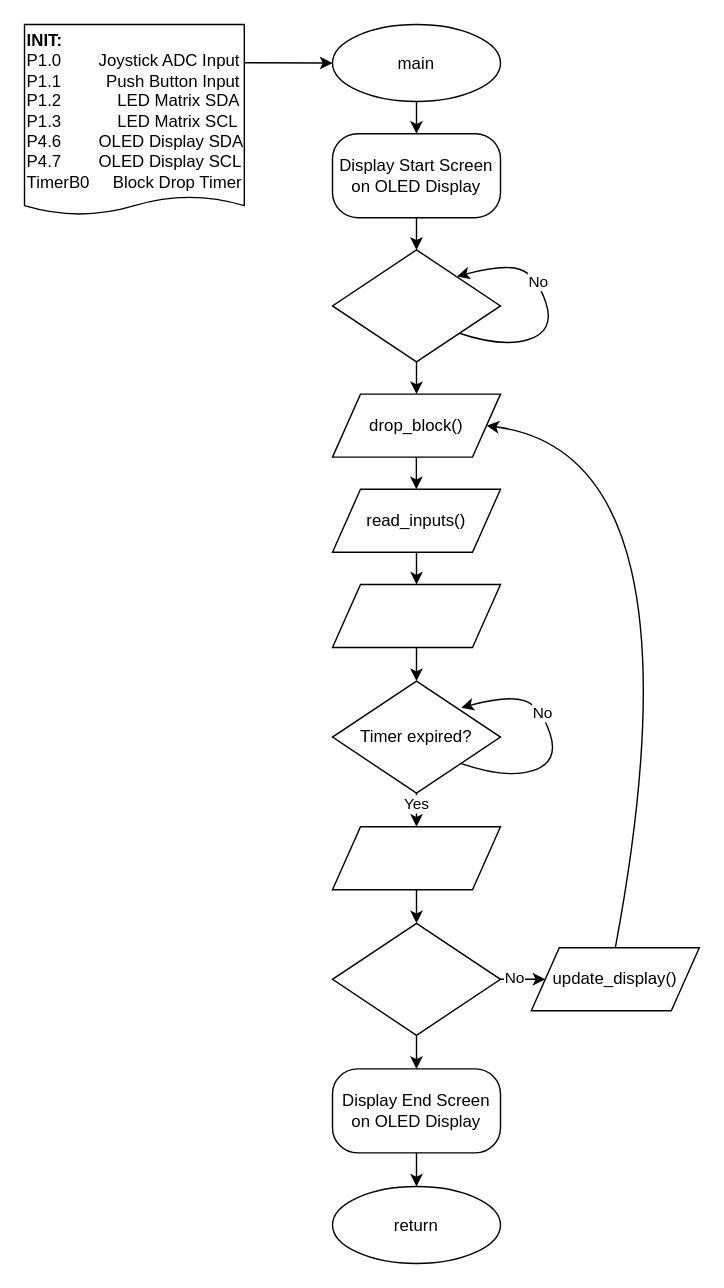
The diagram is 724 pixels wide and 1288 high, and some of its shapes have lost their labels. Each missing label, with the box of its shape:
Game over?: (331, 922, 500, 1035)
Is PB pressed?: (331, 248, 500, 362)
process_inputs(): (331, 583, 500, 648)
update_matrix(): (331, 825, 500, 890)
